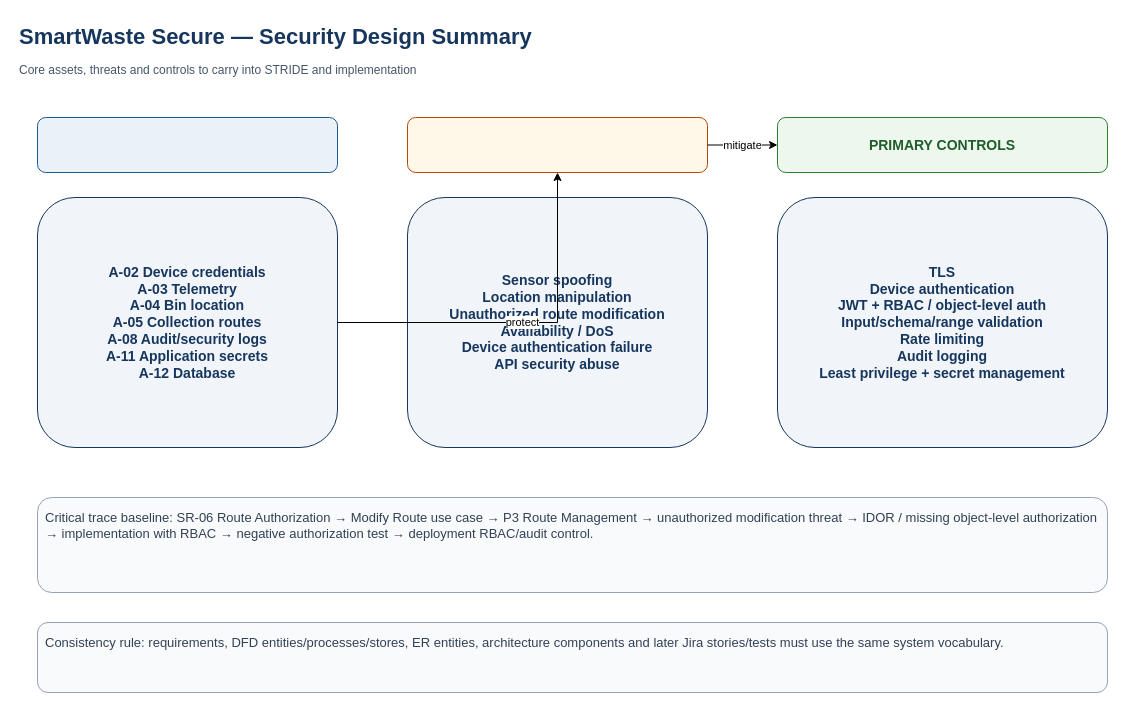
Some shapes in this 1125 by 710 pixel diagram are drawn without their labels. The shapes that lost their labels are listed below. From the top down, each one's box as (x1, y1, x2, y2) in pixels, then its label:
(36, 116, 338, 172): HIGH-VALUE ASSETS
(406, 116, 708, 172): CRITICAL THREATS
